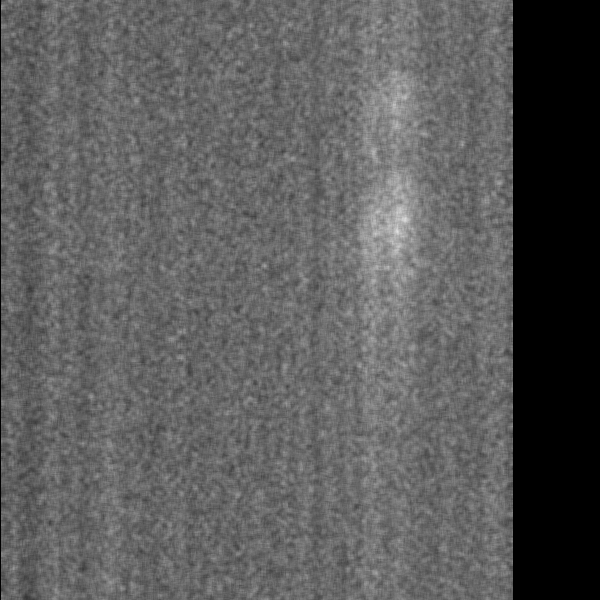spark: (338, 193, 446, 273)
